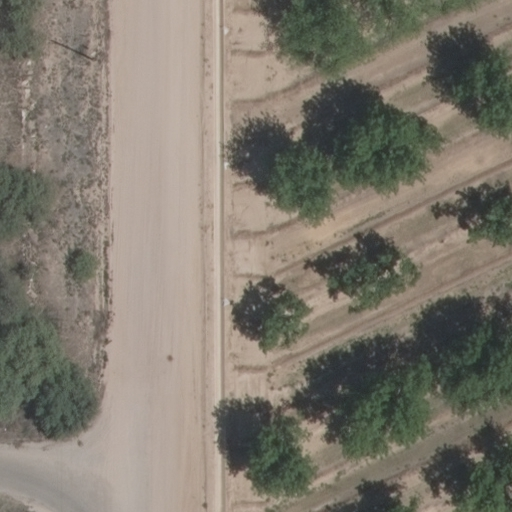DT: (85, 44, 109, 66)
